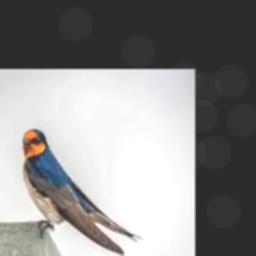Swallow: (23, 129, 143, 255)
